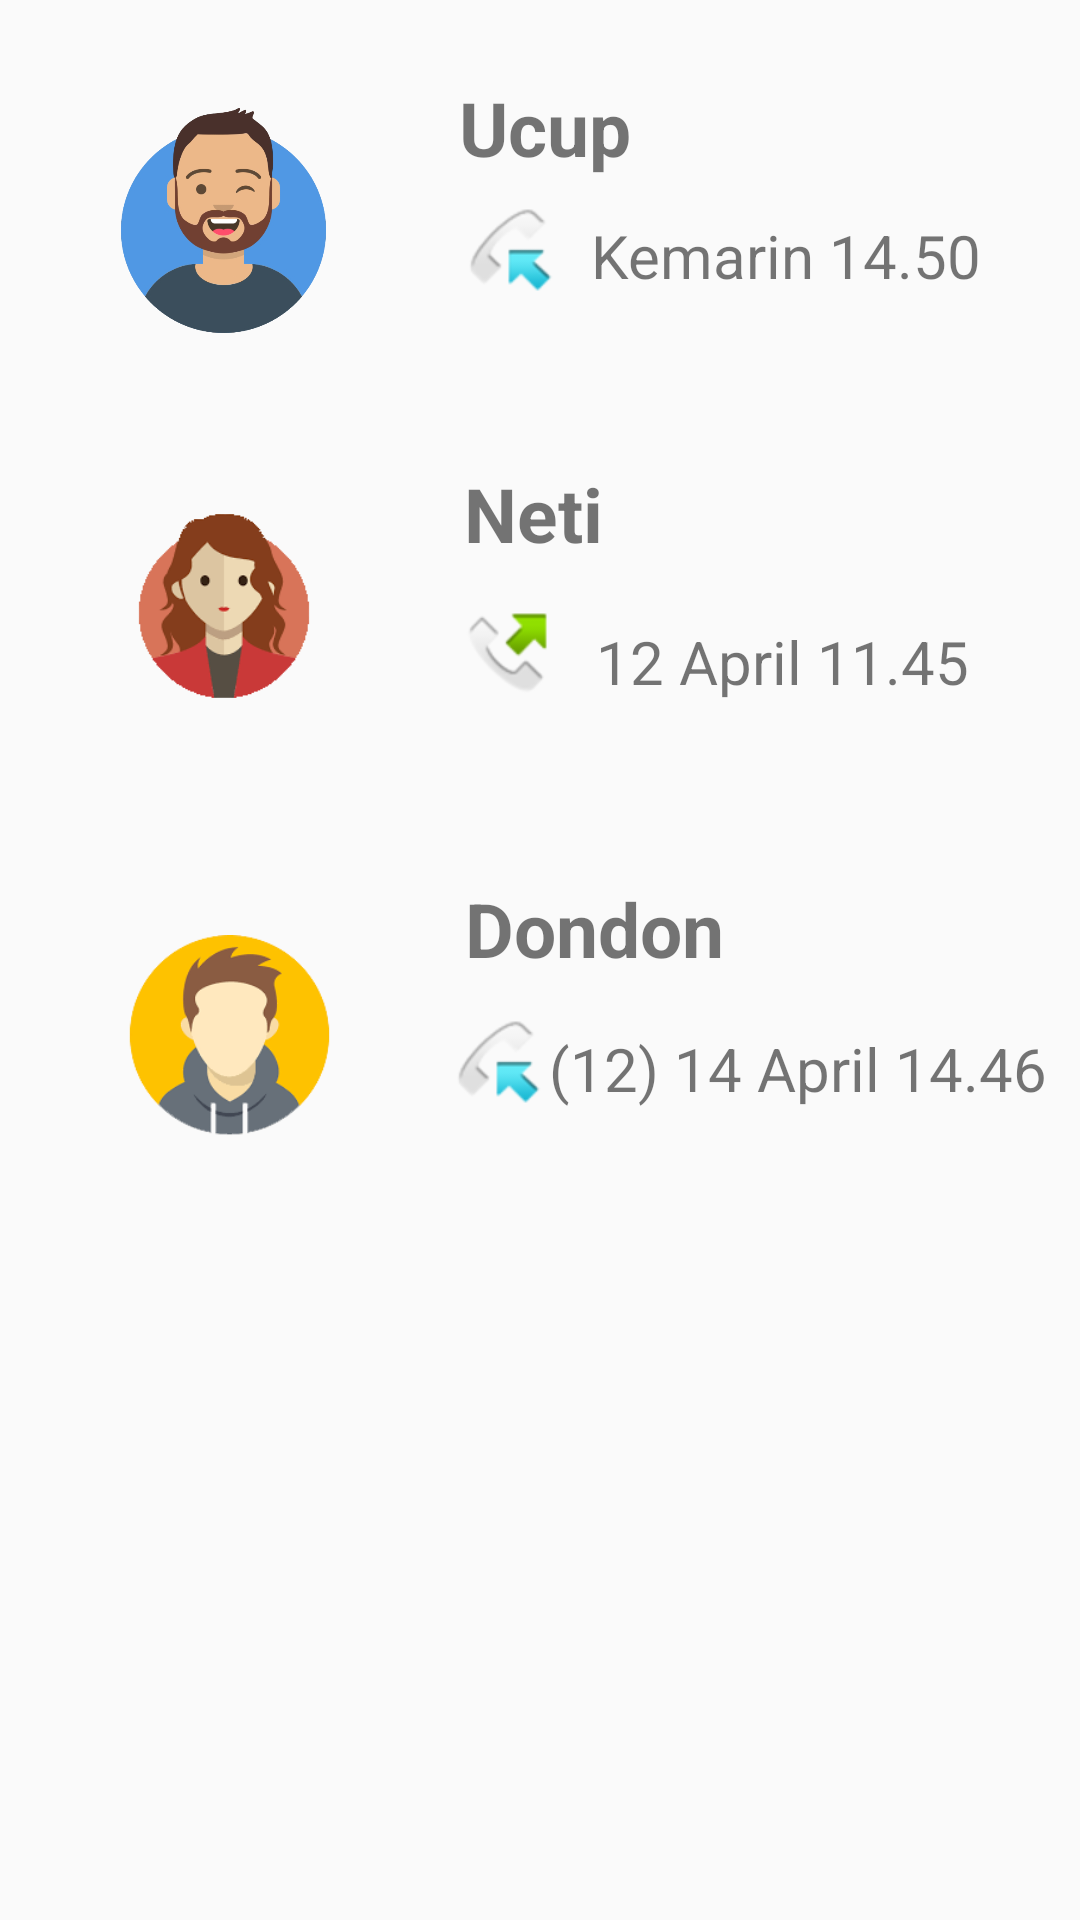

Locate icon controls on the screen. Image size 1080px×1920px, boxes as (x1, y1, x2, y2).
sym call incoming: (471, 209, 551, 291), (459, 1021, 539, 1103)
sym call outgoing: (470, 613, 547, 688)
